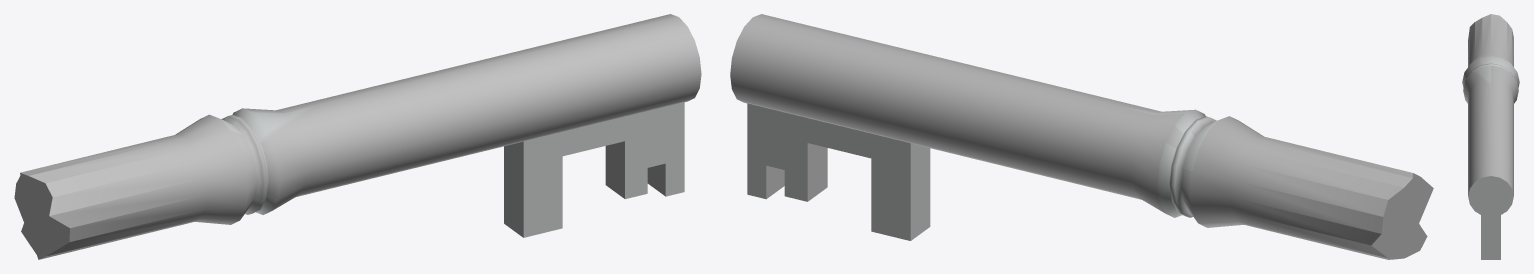
The model's file is key_broken1_mesh.fbx.
3 renders of one model, left to right at view 1: azimuth 30°, elevation 25°; view 2: azimuth 150°, elevation 25°; view 3: azimuth 270°, elevation 25°, orthographic. The views are drawn at different scales.
Parts seen in each view (by area): view 1: fourkets2; view 2: fourkets2; view 3: fourkets2.
Boxes of the visible parts, x1,y1,x2,y2 form: fourkets2: (14,14,701,259); fourkets2: (730,14,1433,259); fourkets2: (1462,14,1519,259).
Size of the model in its own units: 0.6207 by 0.1676 by 0.0933.
